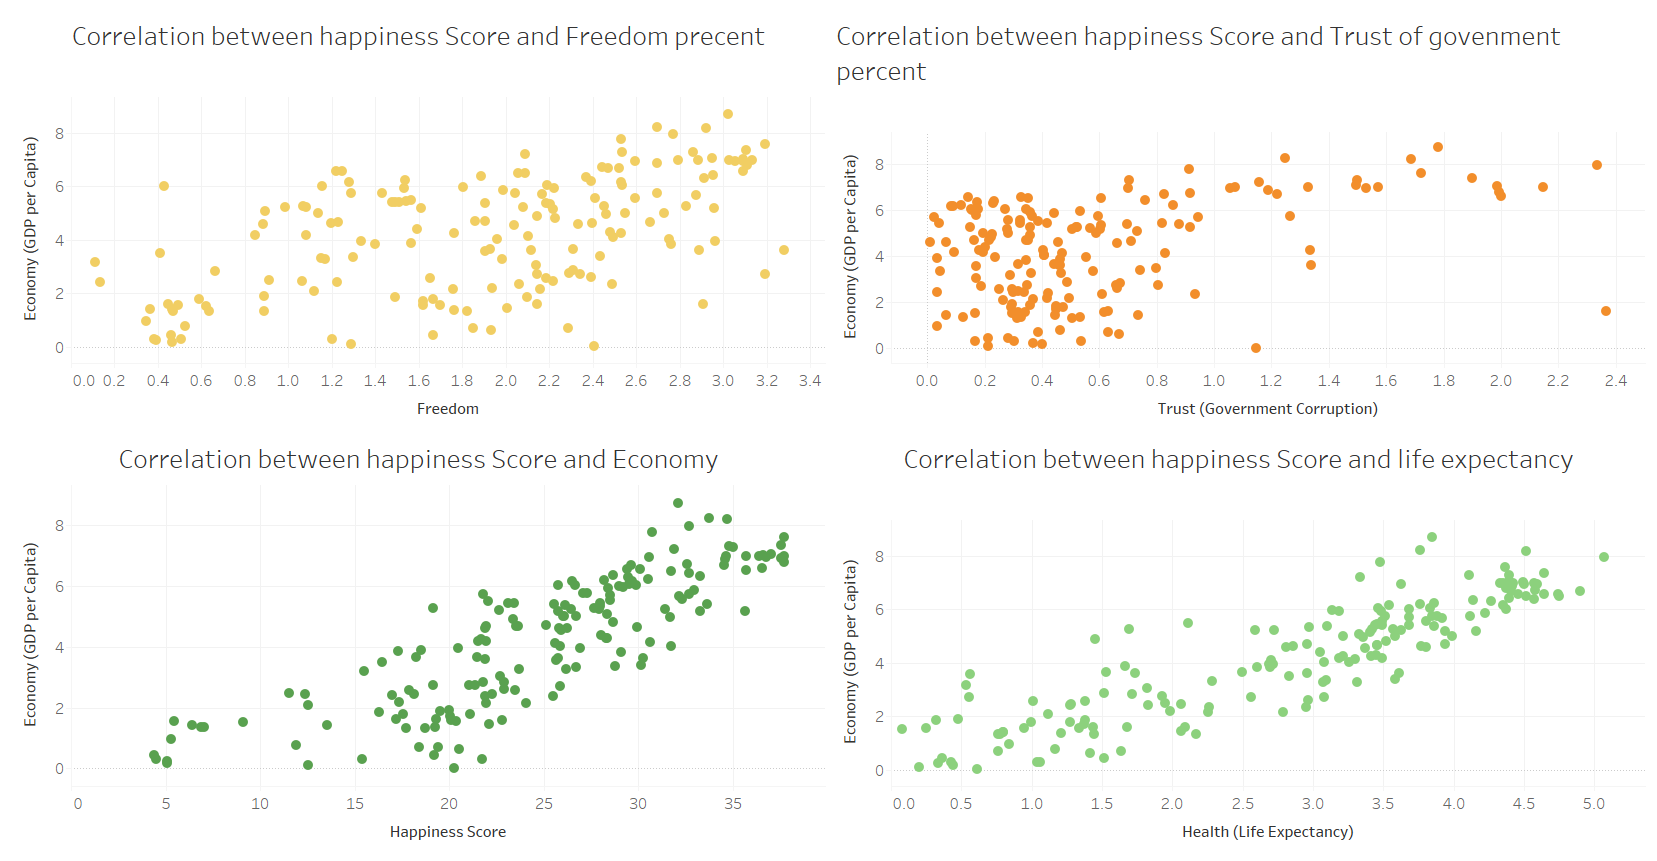

The dashboard page shown, as its layout file describes it:
{"tool":"tableau","page":{"name":"Dashboard 1","canvas":[1000,1000],"units":"permille","ordinal":1},"visuals":[{"type":"worksheet","title":"Happiness vs Freedom","mark":"Circle","rows":["Economy (GDP per Capita)"],"cols":["Freedom"],"box":[4.8,9.3,495.2,490.7]},{"type":"worksheet","title":"Happiness vs Trust of govenment","mark":"Circle","rows":["Economy (GDP per Capita)"],"cols":["Trust (Government Corruption)"],"box":[500,9.3,495.2,490.7]},{"type":"worksheet","title":"Happiness vs Economy","mark":"Circle","rows":["Economy (GDP per Capita)"],"cols":["Happiness Score"],"box":[4.8,500,495.2,490.7]},{"type":"worksheet","title":"Happiness vs Health","mark":"Circle","rows":["Economy (GDP per Capita)"],"cols":["Health (Life Expectancy)"],"box":[500,500,495.2,490.7]}]}

Visuals, with their boxes on the dashboard's canvas, which has no fixed pixel size, in thousandths of its width and height (x1, y1, x2, y2). These are canvas units, not pixel positions in the 1657x861 screenshot, which may show the page scaled, cropped or inside an application window:
"Happiness vs Freedom" worksheet (Circle marks): rect(5, 9, 500, 500)
"Happiness vs Trust of govenment" worksheet (Circle marks): rect(500, 9, 995, 500)
"Happiness vs Economy" worksheet (Circle marks): rect(5, 500, 500, 991)
"Happiness vs Health" worksheet (Circle marks): rect(500, 500, 995, 991)
